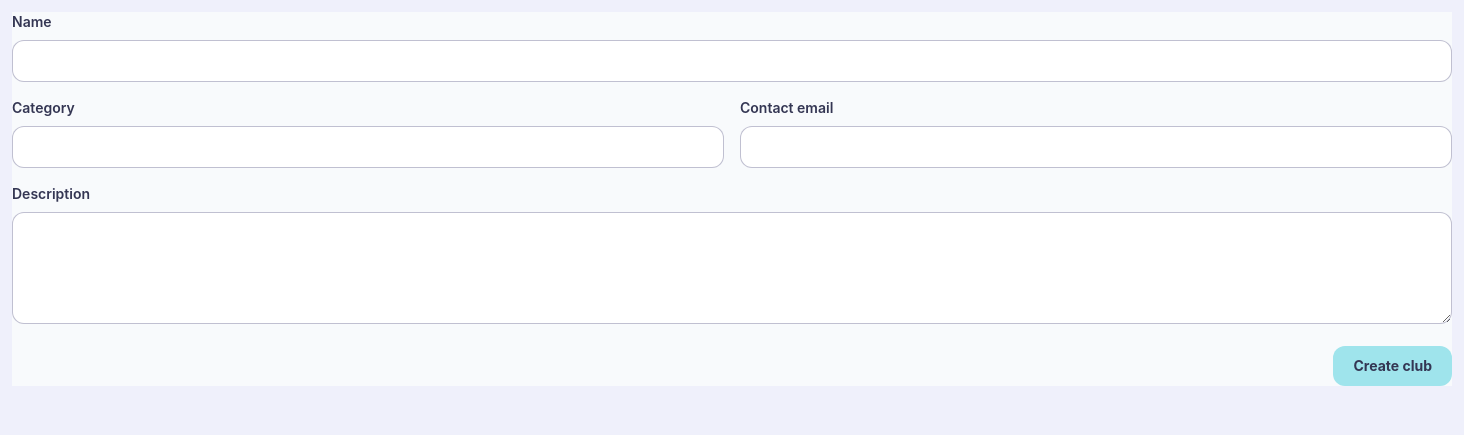
Test: ClubForm › shows validation errors and does not submit invalid data
What coordinates should you click on to do the following:
click the button "Create club"
I would click on:
 (1393, 366)
Its box is x1=1334 y1=346 x2=1452 y2=386.
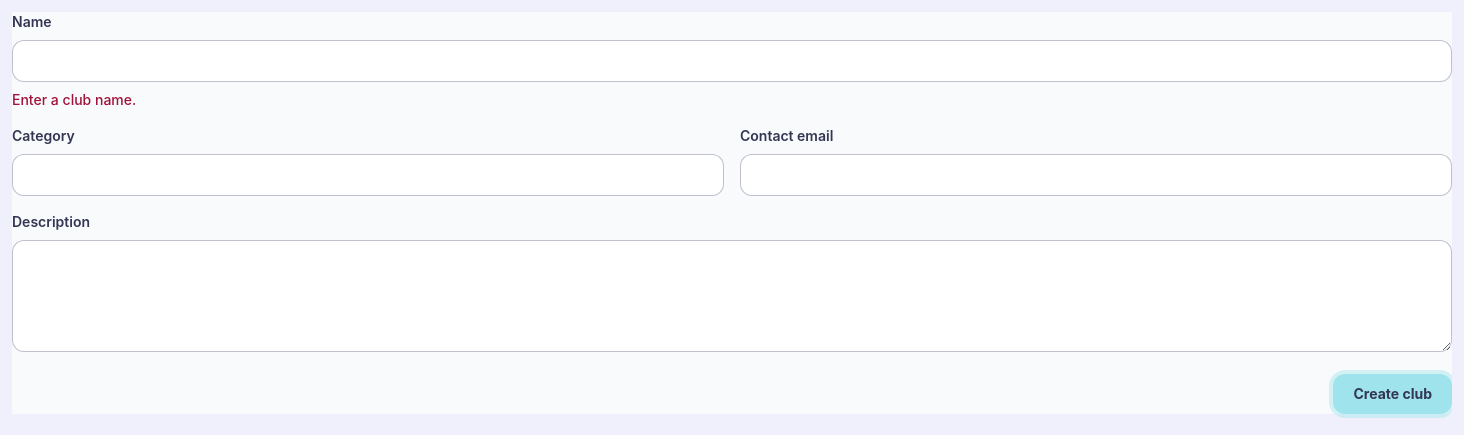
Expected: the text "Enter a club name." is shown, x1=12 y1=91 x2=136 y2=108
